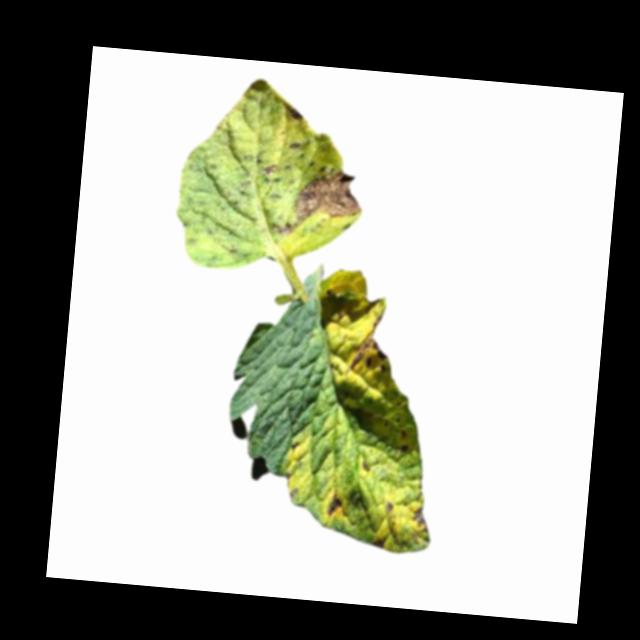Early_blight: (273, 162, 366, 243), (350, 315, 398, 376), (323, 493, 345, 521), (283, 101, 306, 121), (409, 508, 429, 530), (265, 160, 280, 177)
